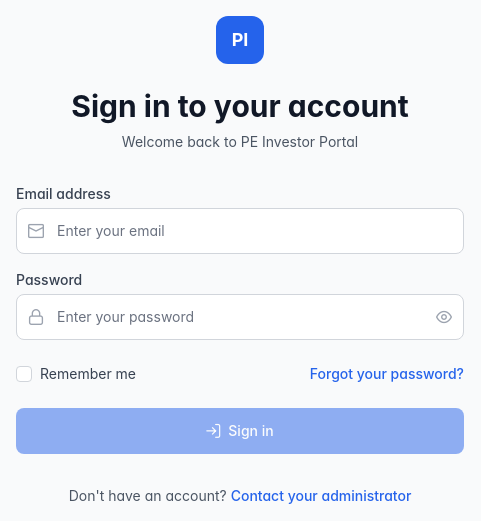
Test case: LoginView › Login Flow › should show loading state during login
This screenshot has width=481, height=521.
Note: Fill in form
Type "test@example.com" into the field with id "email" at (240, 231), box [16,208,464,254]
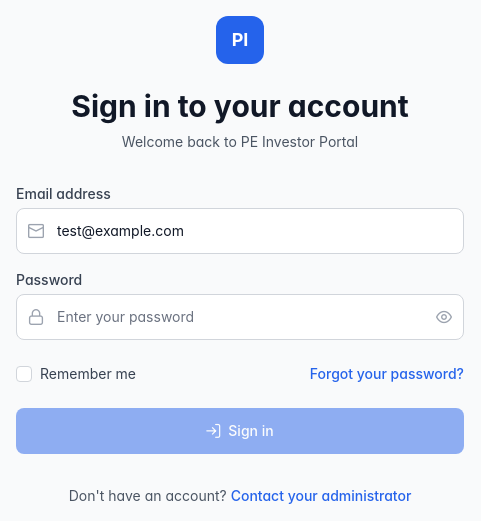
Type "password123" into the password field labelled "Password" at (240, 317), box [16,294,464,340]
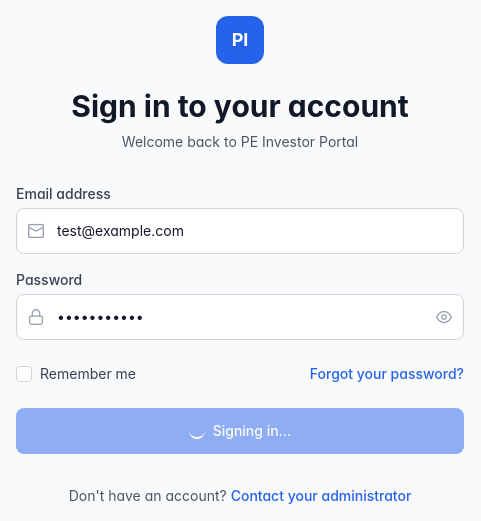
Expected: the submit button is disabled, [16,408,464,454]
Now the text "Signing in..." is shown, box [189,421,291,441]
